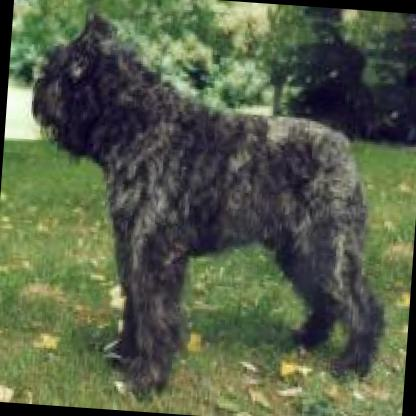Bouvier_des_Flandres: (5, 4, 406, 416)
